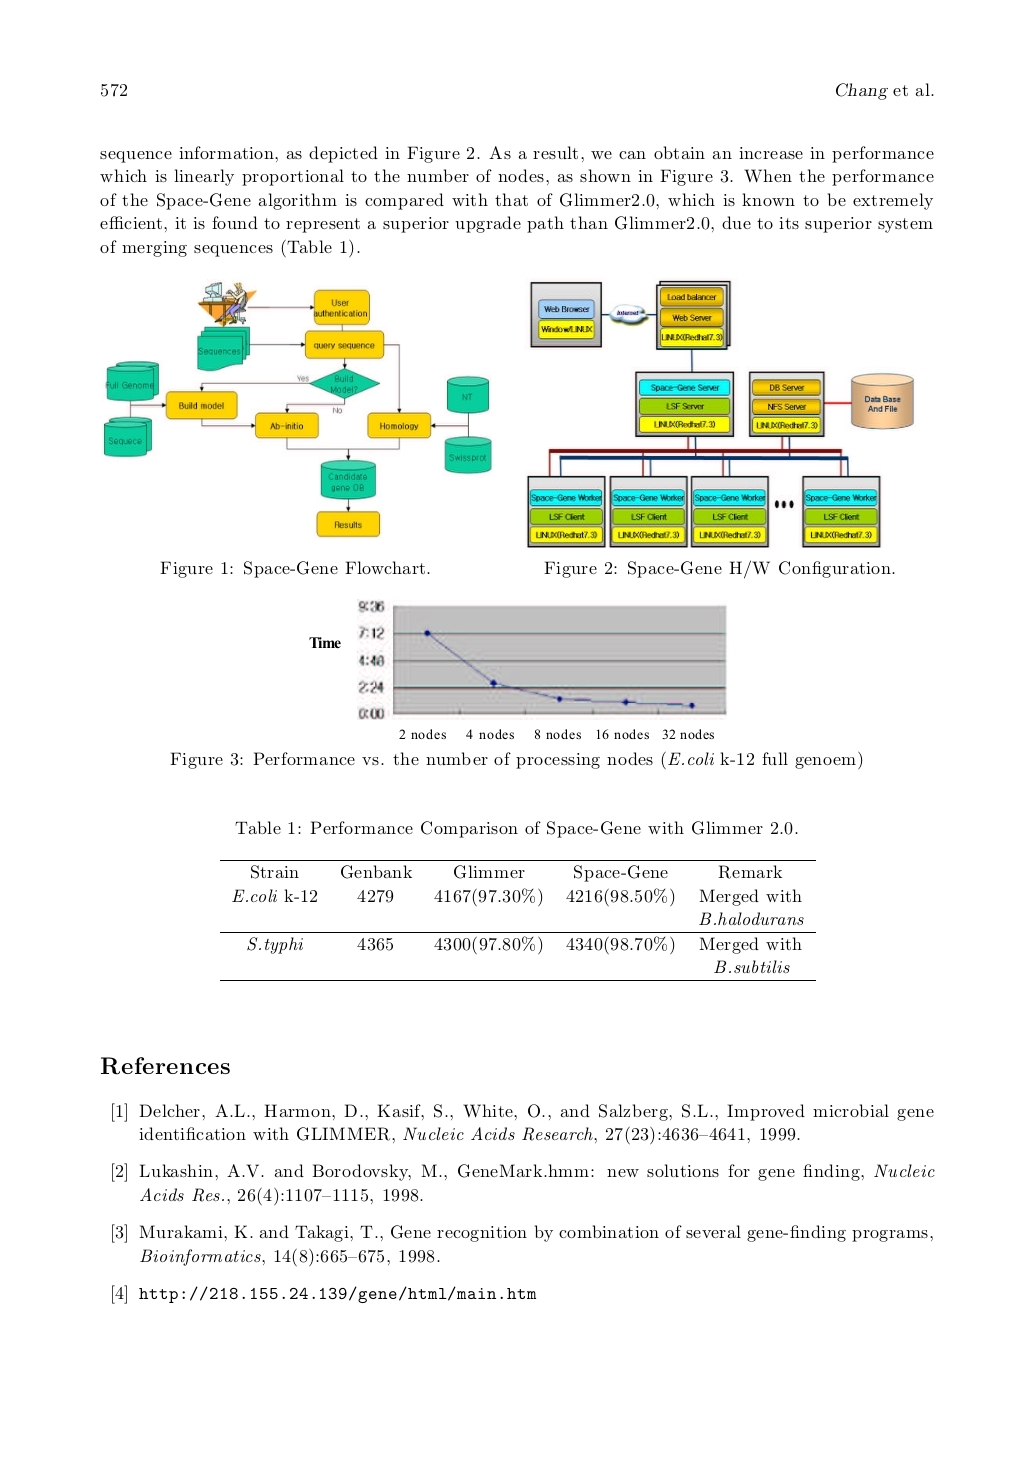Table: (220, 860, 815, 980)
figure: (526, 279, 913, 548), (104, 280, 491, 538), (103, 280, 491, 537), (309, 599, 726, 740)
